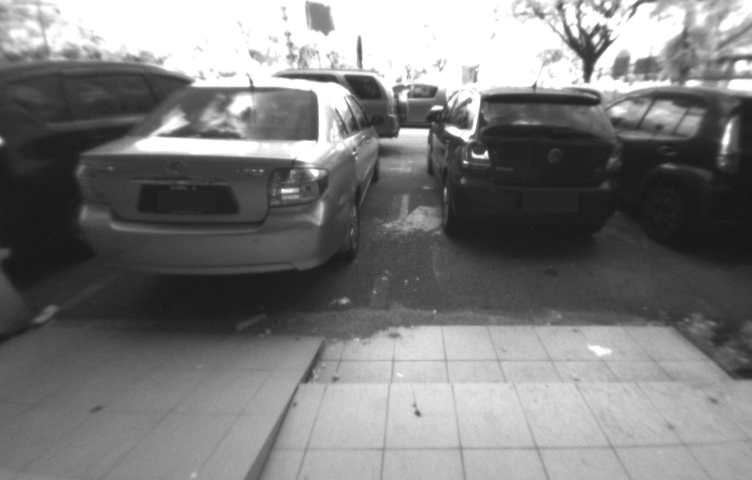down_steps: (259, 317, 752, 480)
mixed_gradient: (196, 326, 370, 480)
